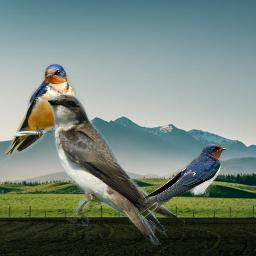Swallow: (47, 94, 185, 245), (129, 144, 227, 226), (5, 63, 76, 156)
